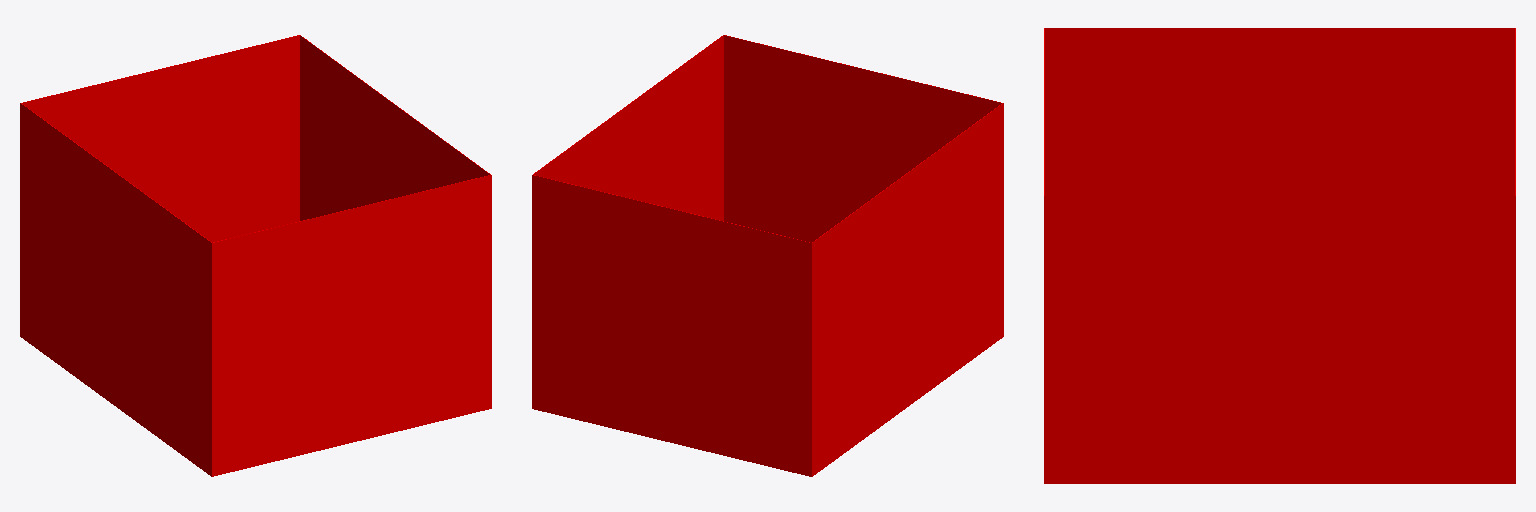
The robot description file, URDF, robot "square.urdf":
<?xml version="1.0" ?>
<robot name="square.urdf">
  <link name="baseLink">
    <contact>
      <lateral_friction value="1.0"/>
      <inertia_scaling value="3.0"/>
    </contact>
    <inertial>
      <origin rpy="0 0 0" xyz="0 0 0"/>
       <mass value=".1"/>
       <inertia ixx="1" ixy="0" ixz="0" iyy="1" iyz="0" izz="1"/>
    </inertial>
    <visual>
      <origin rpy="0 0 0" xyz="0 0 0"/>
      <geometry>
        <mesh filename="2.stl" scale="1 1 1" />
      </geometry>
      <material name="red">
        <color rgba="1 0 0 1"/>
      </material>
    </visual>
    <collision>
      <origin rpy="0 0 0" xyz="0 0 0"/>
      <geometry>
        <mesh filename="2_convex.obj" scale="1 1 1" />
      </geometry>
    </collision>
  </link>
</robot>

--- Facts derived from the render (not from the file) ---
The picture shows the robot from 3 angles, left to right: view 1: azimuth 30°, elevation 25°; view 2: azimuth 150°, elevation 25°; view 3: azimuth 270°, elevation 25°; orthographic projection.
Robot: square.urdf — 1 links, 0 joints (none); root link baseLink; default pose: every joint at zero.
Visible links, largest first — view 1: baseLink; view 2: baseLink; view 3: baseLink.
Boxes of the visible links, box(x1,y1,x2,y2) form: baseLink: box(20, 35, 491, 476); baseLink: box(532, 35, 1003, 476); baseLink: box(1044, 28, 1515, 483).
Size in the robot's own frame: 0.4704 by 0.5576 by 0.3759 metres.
Meshes: 1 distinct files referenced, 1 mesh visuals loaded (1 binary STL).